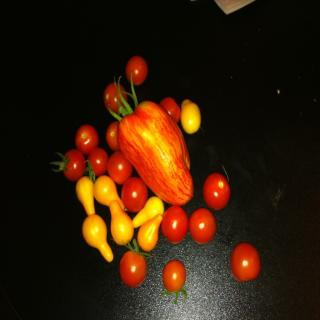tomato: (202, 170, 232, 211), (116, 251, 148, 288), (230, 244, 260, 283), (160, 204, 186, 246), (54, 148, 85, 180), (162, 260, 185, 300), (190, 210, 216, 244), (122, 177, 147, 212), (107, 149, 133, 182), (123, 53, 149, 84), (73, 126, 99, 156), (104, 82, 126, 113), (89, 146, 109, 171)
